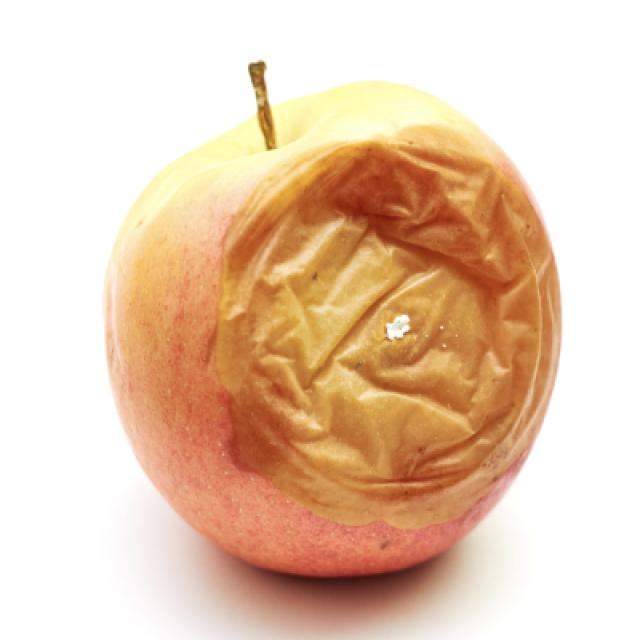rotten_apple: (104, 66, 563, 583)
